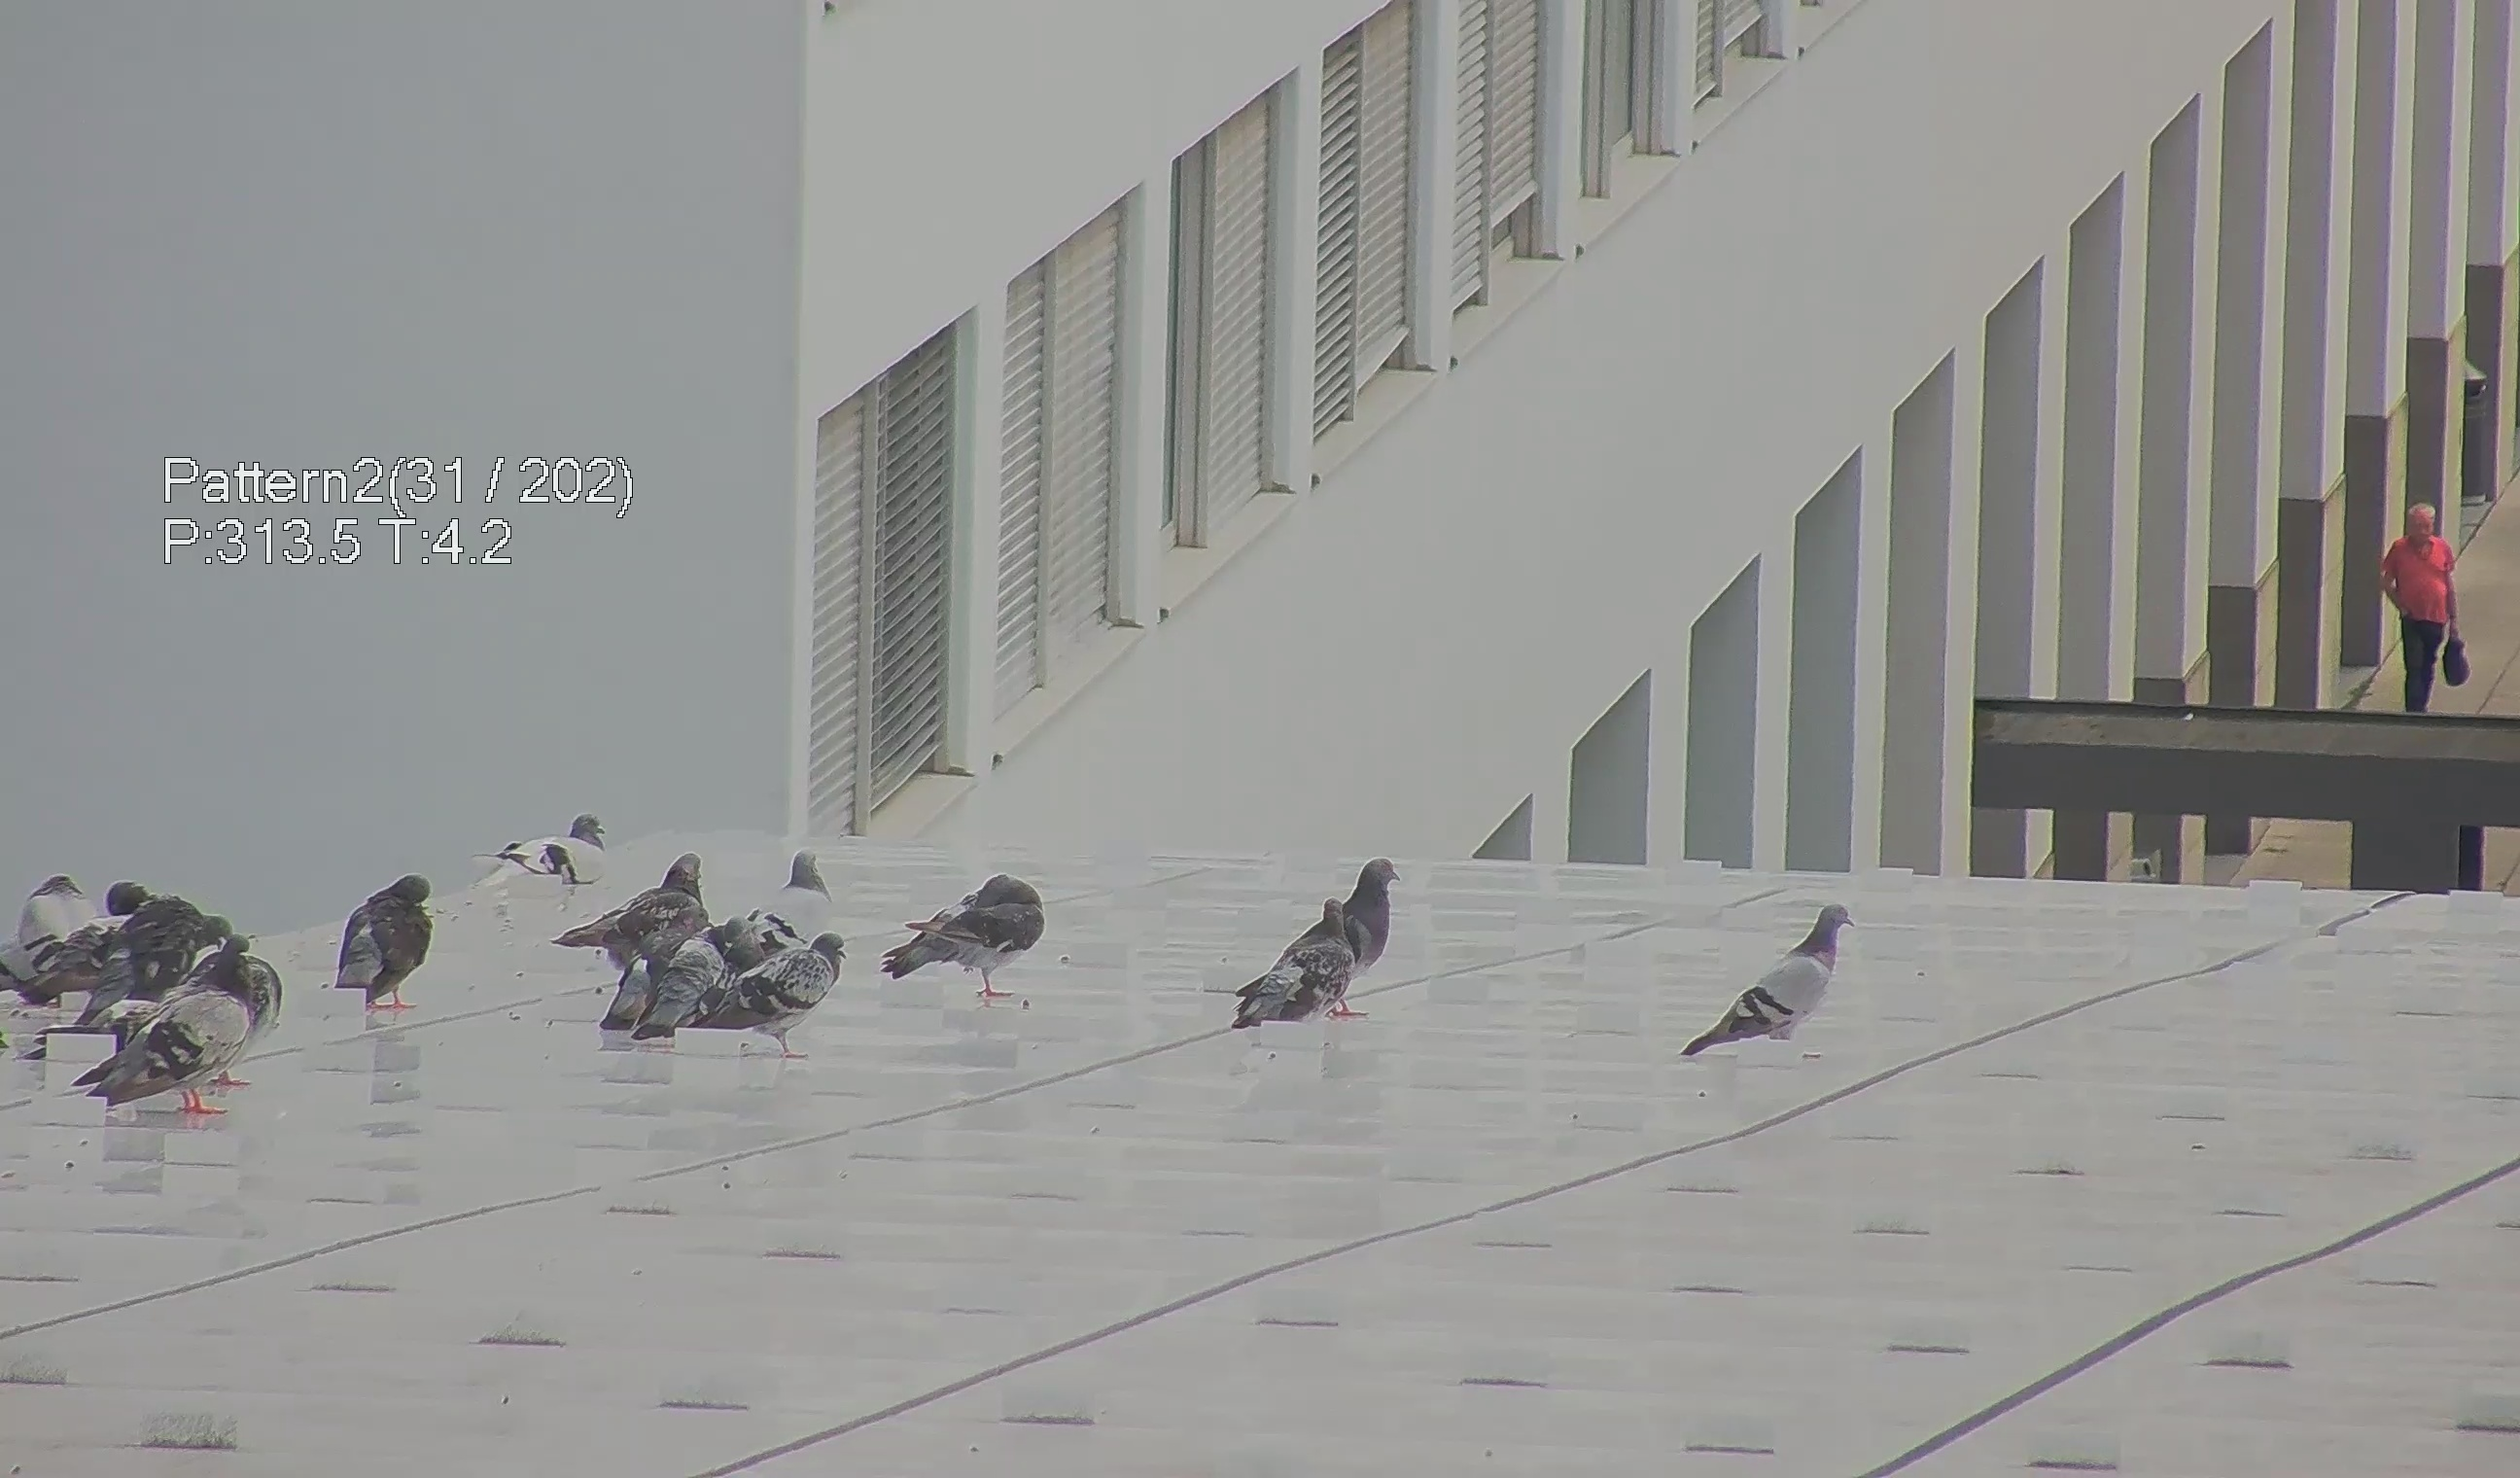Pigeon: (69, 933, 255, 1147), (1688, 899, 1885, 1072), (42, 894, 208, 1075), (691, 915, 851, 1075), (883, 866, 1053, 1006), (1210, 892, 1359, 1050), (561, 850, 714, 987), (324, 871, 436, 1019), (471, 802, 624, 908), (608, 917, 737, 1031), (1319, 846, 1409, 985), (12, 860, 88, 1008), (776, 850, 848, 938)
